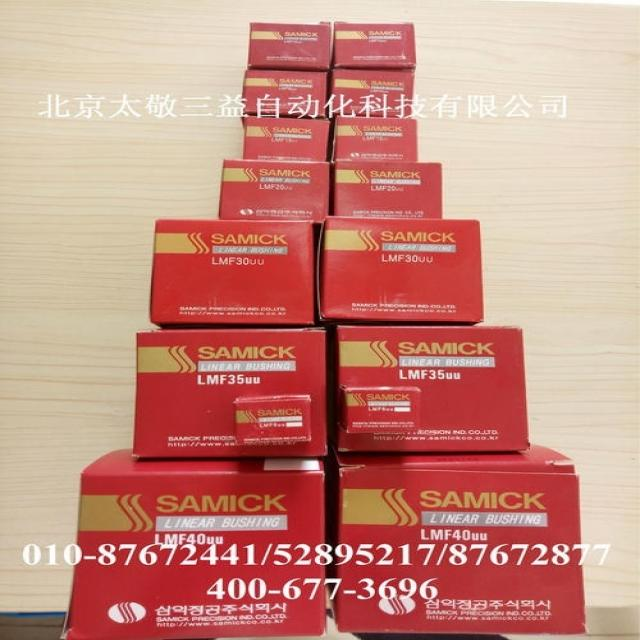box: (61, 448, 327, 639), (328, 444, 586, 633), (132, 328, 328, 458), (336, 326, 529, 452), (149, 218, 315, 329), (317, 216, 484, 325), (218, 159, 330, 223), (332, 162, 442, 218), (240, 69, 328, 127), (329, 70, 415, 118), (332, 22, 416, 70), (243, 116, 330, 162), (248, 22, 331, 70), (333, 118, 419, 162)
